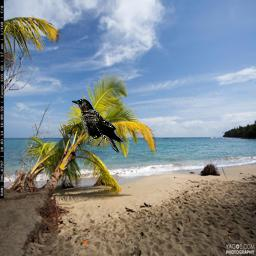Crow: (69, 98, 124, 153)
